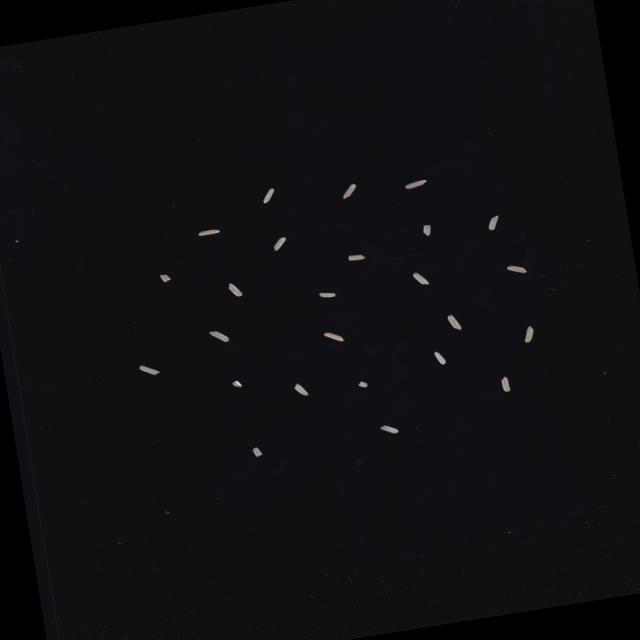Not: (208, 328, 230, 346), (138, 362, 162, 378), (324, 330, 346, 344), (340, 183, 358, 200), (412, 270, 431, 286), (227, 281, 243, 299), (447, 313, 462, 332), (378, 423, 399, 436), (507, 263, 528, 276), (261, 188, 277, 205), (293, 382, 309, 398), (272, 236, 288, 252), (522, 326, 536, 344), (433, 350, 448, 366), (486, 215, 501, 231), (404, 180, 428, 190), (499, 376, 512, 394), (317, 290, 336, 300), (198, 228, 221, 236), (347, 253, 366, 262), (422, 224, 434, 237), (252, 447, 264, 458), (230, 380, 243, 390), (159, 273, 172, 283), (356, 380, 369, 389)
